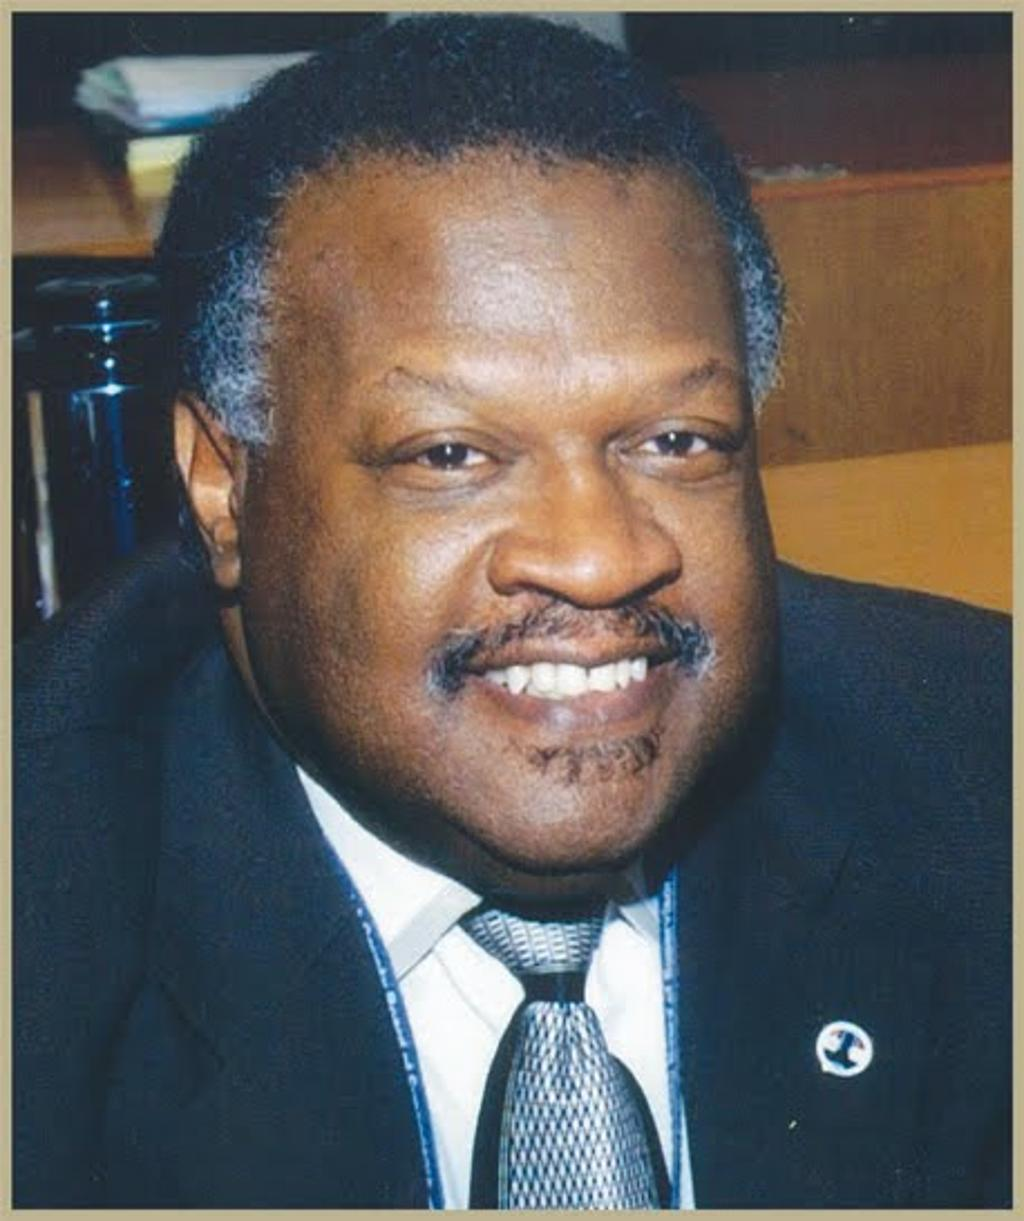face: (287, 182, 750, 824)
